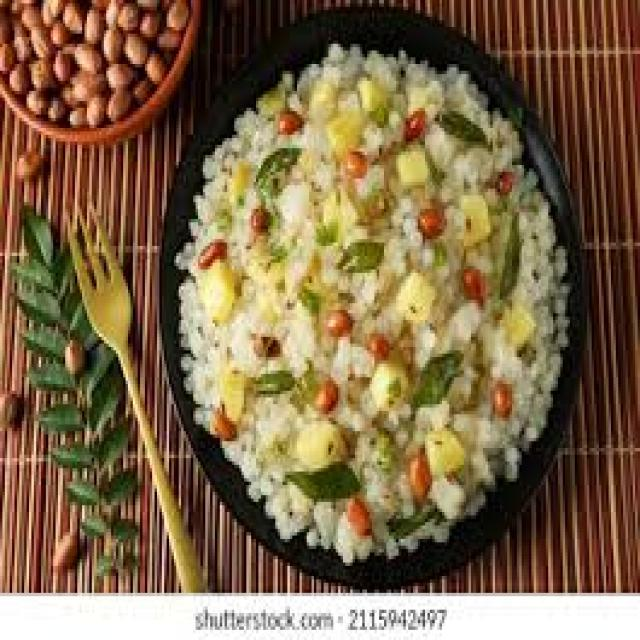UPMA: (169, 40, 565, 552)
